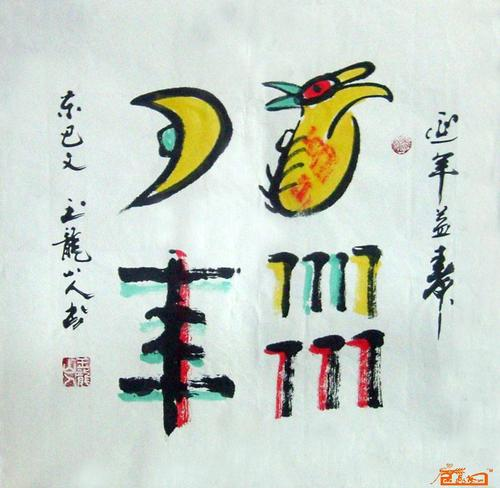chinese: (52, 87, 96, 331), (428, 104, 462, 335)
naxi: (107, 251, 242, 436), (257, 62, 396, 219), (265, 243, 385, 420), (123, 84, 235, 216)
